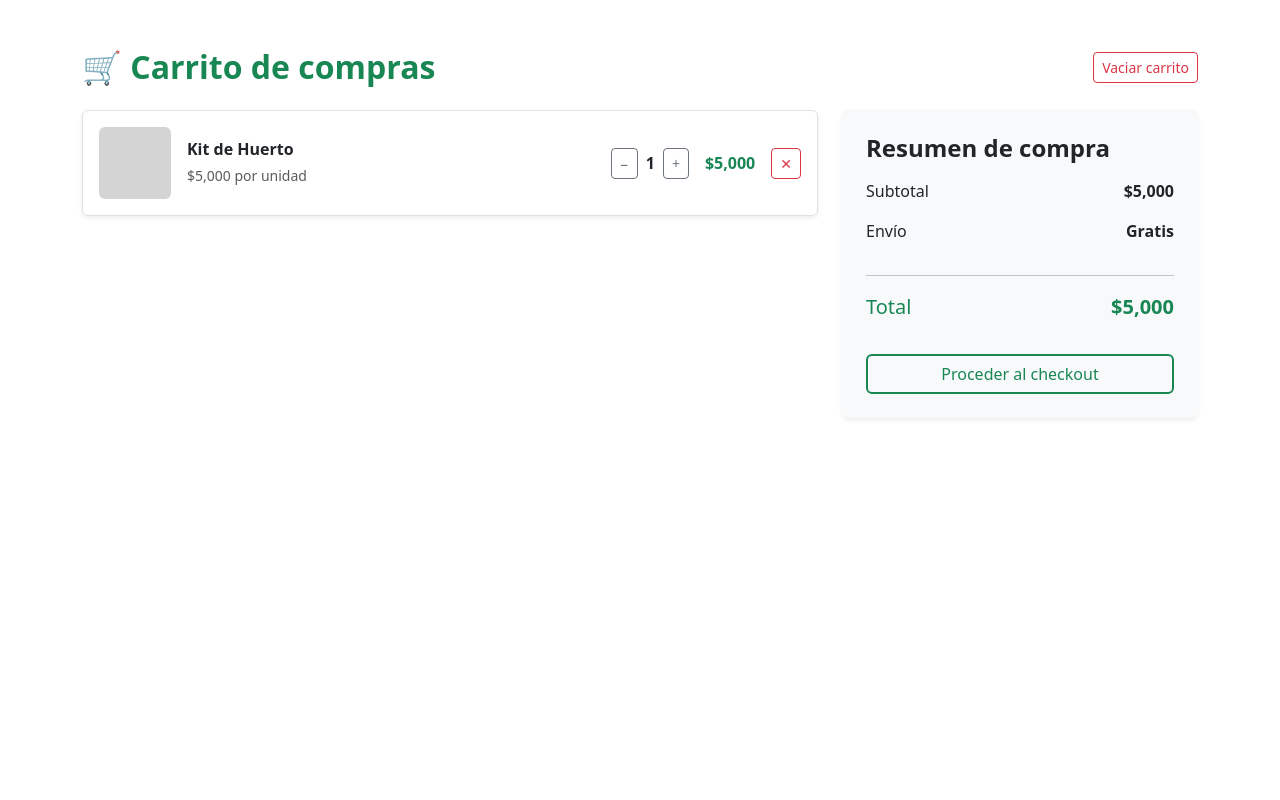
Test: Carrito › muestra los datos reales de la cuenta y la dirección autocompletada
Click the button "Proceder al checkout" at (1020, 374), box [866,354,1174,394]
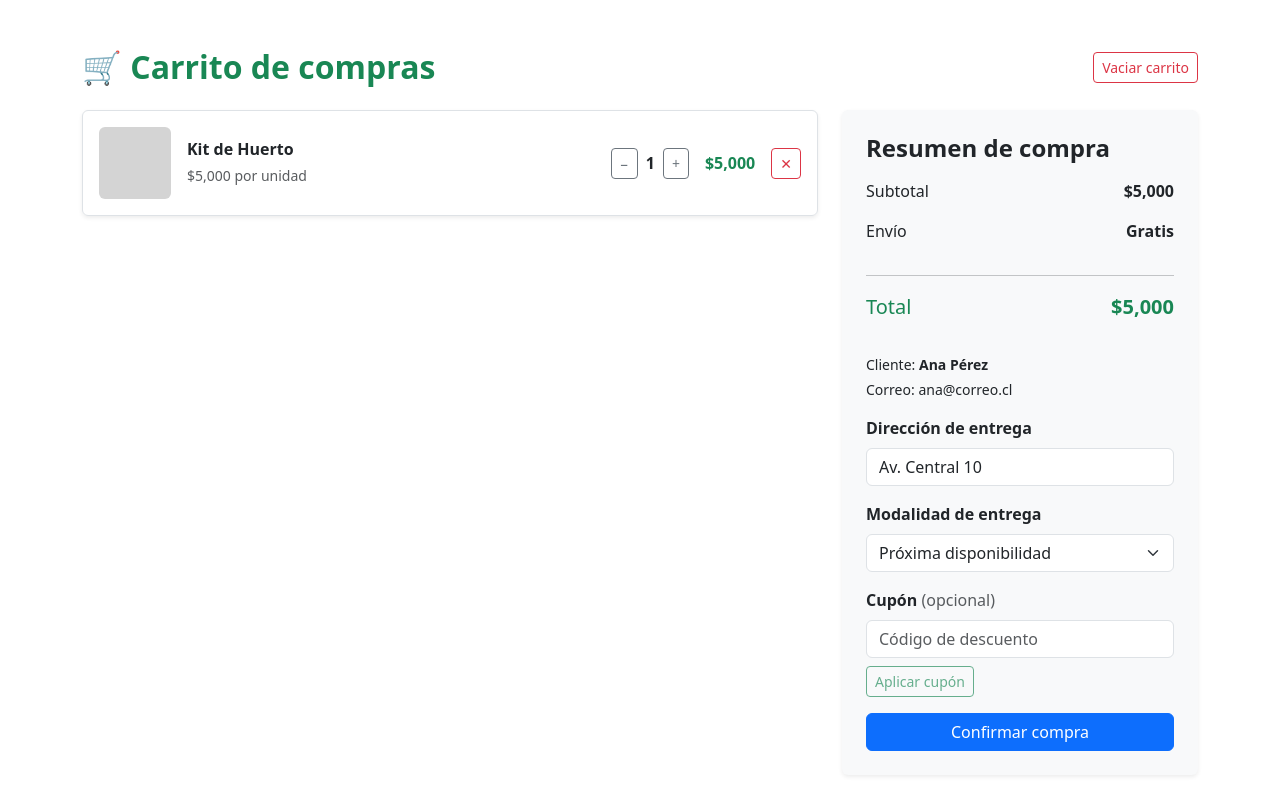
Result: the text "Ana Pérez" is shown at [919,355,988,374]
Result: the text "ana@correo.cl" is shown at [918,380,1012,399]
Result: the field labelled "Dirección de entrega" holds "Av. Central 10" at [866,448,1174,486]
